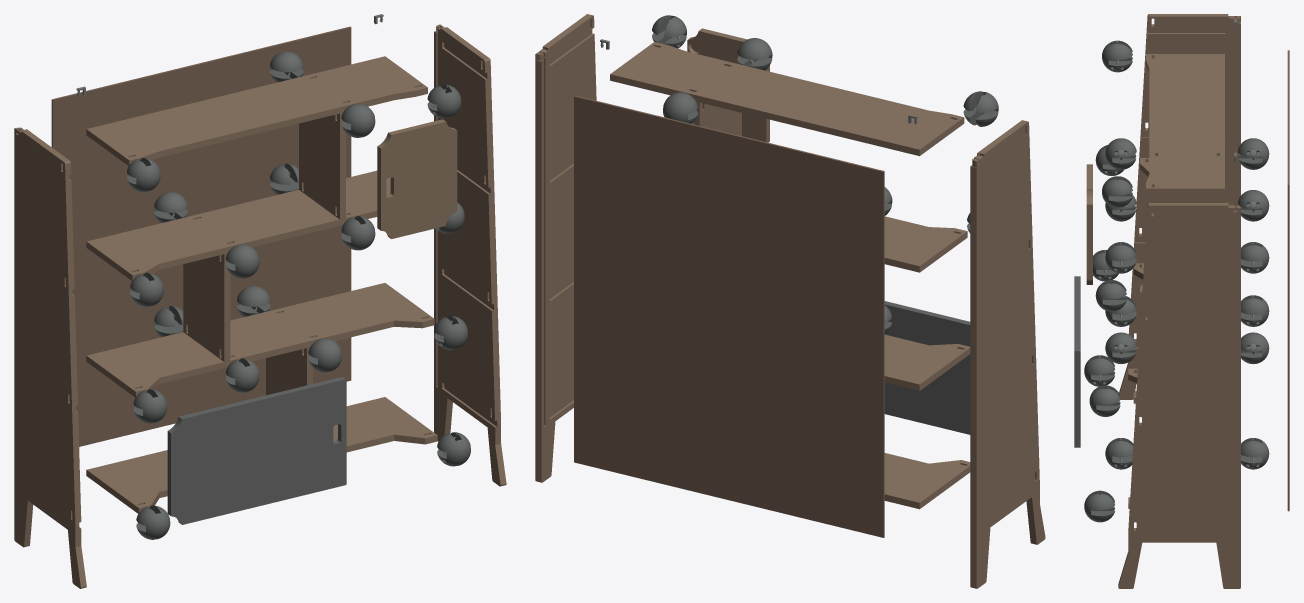
File: exploded.glb
3 renders of one model, left to right at view 1: azimuth 30°, elevation 25°; view 2: azimuth 150°, elevation 25°; view 3: azimuth 270°, elevation 25°, orthographic. The views are drawn at different scales.
Visible parts, largest first — view 1: back-panel, frame-left, frame-right, door-0, shelf-3, shelf-1, shelf-2, door-1, shelf-0, partition-1, partition-2, partition-0 (+17 smaller); view 2: back-panel, frame-left, frame-right, shelf-3, door-0, shelf-0, shelf-1, shelf-2, door-1, partition-2, sphere-side-left-3, sphere-inner-x700-3-front (+2 smaller); view 3: frame-right, shelf-3, frame-left, back-panel, door-0, door-1, sphere-side-right-0, sphere-side-right-1, sphere-side-right-2, sphere-side-right-3, sphere-inner-x700-2-front, sphere-side-left-3 (+15 smaller).
Boxes of the visible parts, left/top/right/bottom form: back-panel: left=51, top=26, right=351, bottom=446; frame-left: left=14, top=127, right=86, bottom=588; frame-right: left=434, top=24, right=506, bottom=486; door-0: left=167, top=377, right=346, bottom=524; shelf-3: left=86, top=56, right=427, bottom=165; shelf-1: left=86, top=283, right=434, bottom=397; shelf-2: left=86, top=170, right=390, bottom=280; door-1: left=377, top=119, right=457, bottom=238; shelf-0: left=86, top=397, right=437, bottom=513; partition-1: left=183, top=251, right=230, bottom=363; partition-2: left=299, top=110, right=345, bottom=221; partition-0: left=266, top=345, right=312, bottom=395; back-panel: left=574, top=95, right=884, bottom=537; frame-left: left=970, top=120, right=1045, bottom=588; frame-right: left=535, top=14, right=596, bottom=482; shelf-3: left=610, top=41, right=964, bottom=156; door-0: left=884, top=301, right=970, bottom=434; shelf-0: left=884, top=453, right=970, bottom=509; shelf-1: left=884, top=334, right=970, bottom=390; shelf-2: left=884, top=216, right=967, bottom=272; door-1: left=687, top=28, right=769, bottom=142; partition-2: left=693, top=99, right=741, bottom=135; sphere-side-left-3: left=963, top=91, right=998, bottom=126; sphere-inner-x700-3-front: left=737, top=38, right=772, bottom=70; frame-right: left=1118, top=203, right=1240, bottom=588; shelf-3: left=1146, top=54, right=1224, bottom=194; frame-left: left=1119, top=14, right=1240, bottom=399; back-panel: left=1287, top=50, right=1289, bottom=511; door-0: left=1074, top=276, right=1080, bottom=447; door-1: left=1086, top=164, right=1092, bottom=284; sphere-side-right-0: left=1084, top=490, right=1114, bottom=522; sphere-side-right-1: left=1089, top=385, right=1120, bottom=416; sphere-side-right-2: left=1095, top=280, right=1126, bottom=311; sphere-side-right-3: left=1102, top=176, right=1132, bottom=207; sphere-inner-x700-2-front: left=1105, top=242, right=1136, bottom=273; sphere-side-left-3: left=1102, top=40, right=1132, bottom=72.
Bounding box in the file's own units: 1.29 × 1.27 × 0.611.
